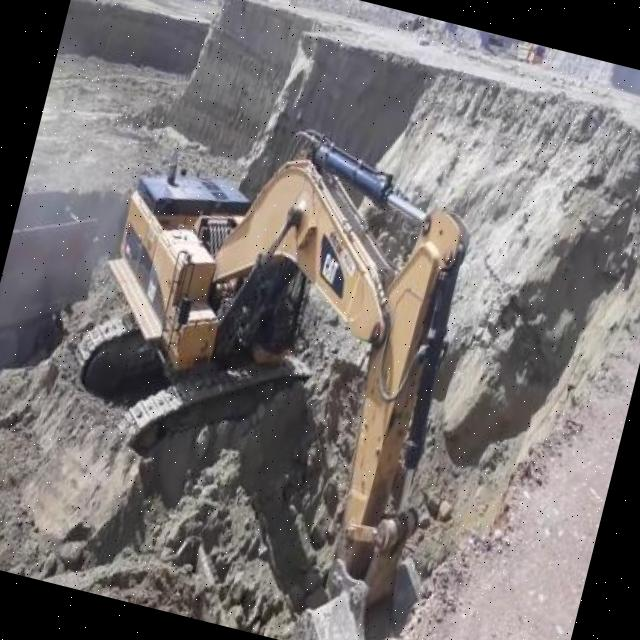Dump Truck: (0, 169, 137, 398)
Excavator: (18, 83, 529, 640)
